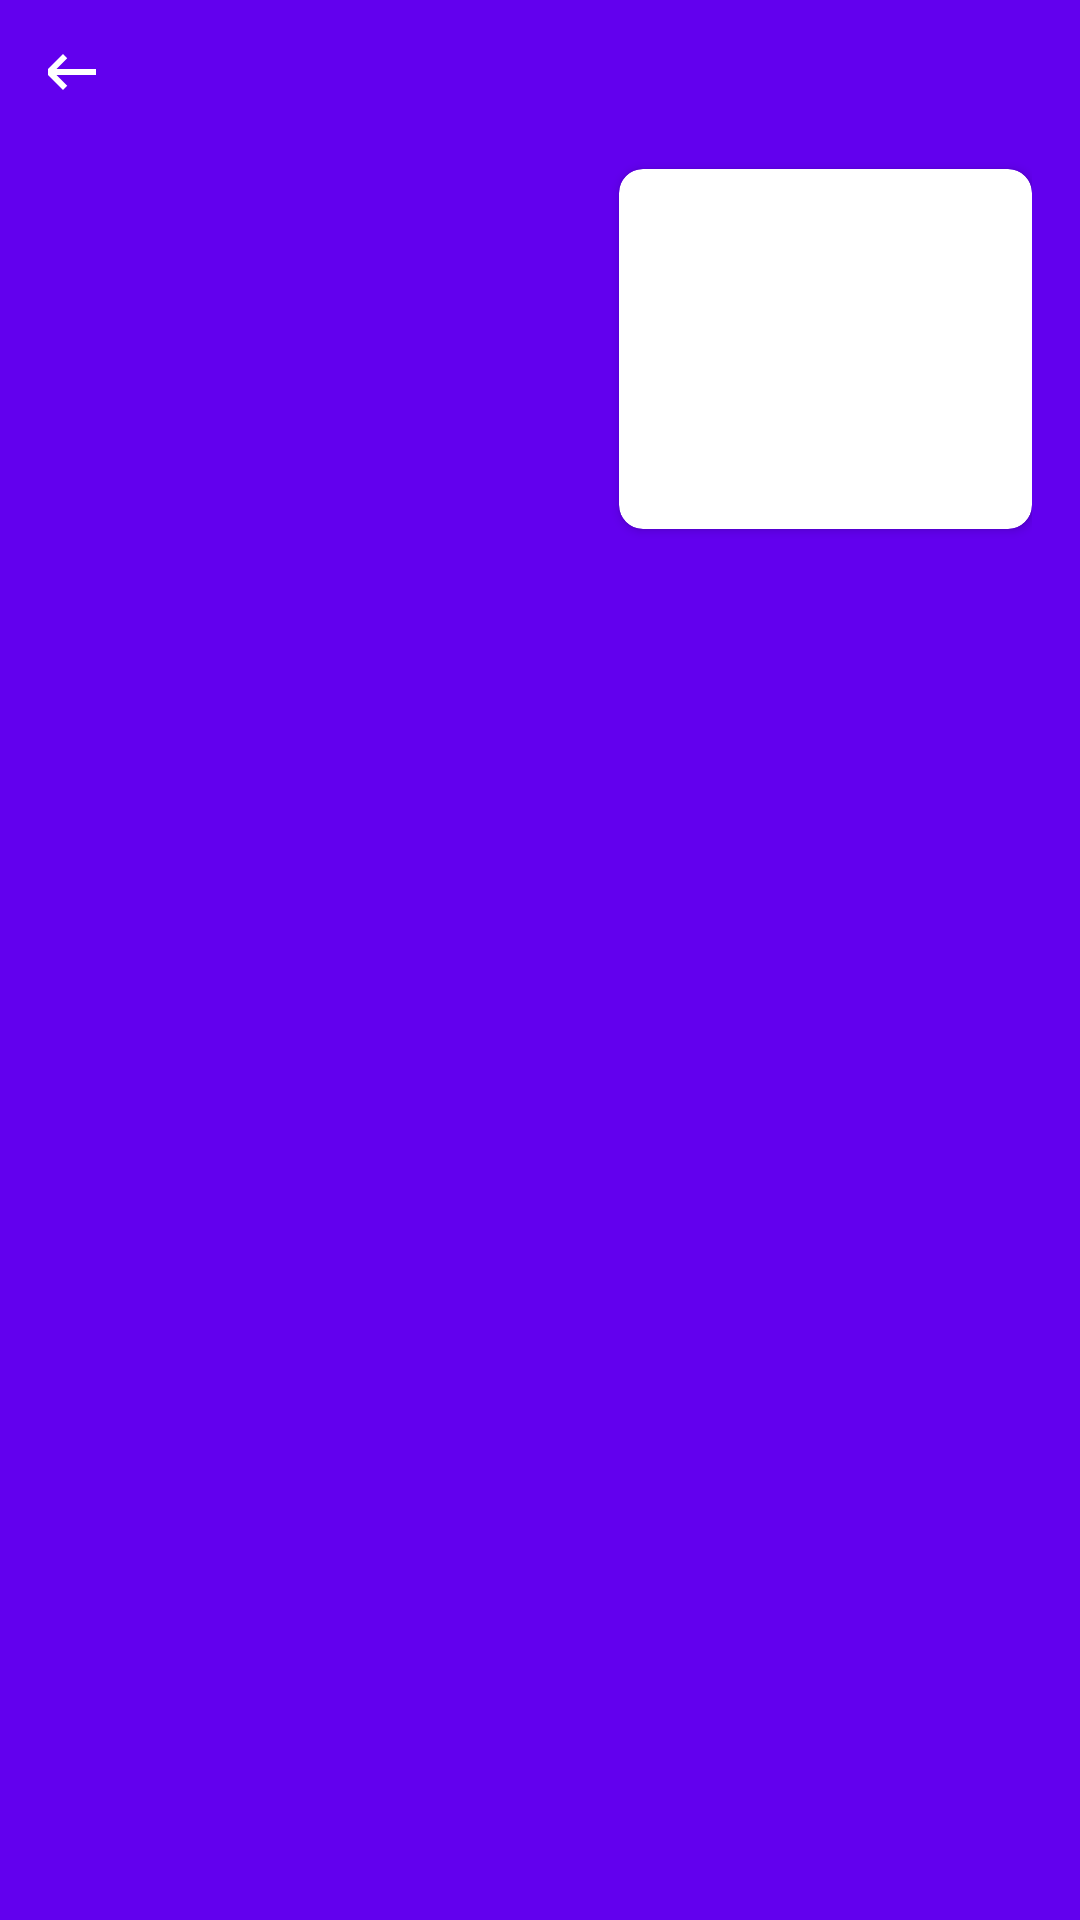

Point at icon controls on the screen. Image size 1080x1920, points as point (x, y).
keyboard backspace: point (72, 72)
